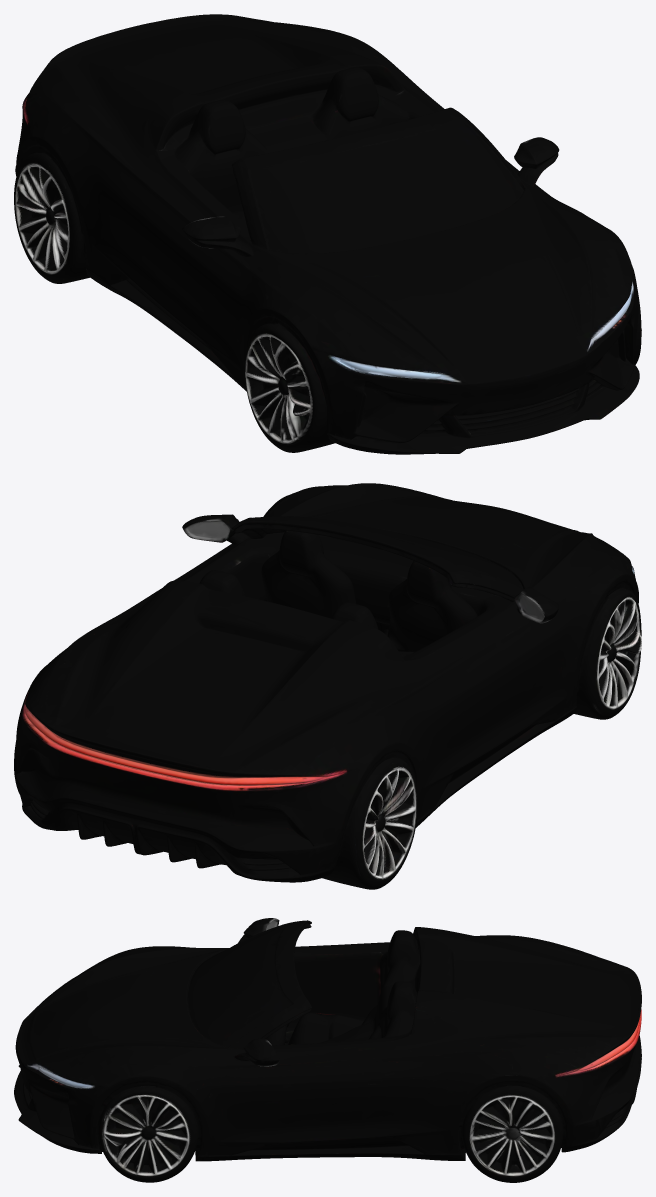
Rendered from car.glb.
3 views of the same model, one above another, from view 1: azimuth 30°, elevation 25°; view 2: azimuth 150°, elevation 25°; view 3: azimuth 270°, elevation 25° (orthographic). The views are drawn at different scales.
Parts seen in each view (by area): view 1: material; view 2: material; view 3: material.
Boxes of the visible parts, bbox=[...] form: material: bbox=[14, 14, 641, 454]; material: bbox=[14, 483, 641, 889]; material: bbox=[14, 918, 641, 1182].
Size of the model in its own units: 0.6233 by 0.3358 by 1.17.
Materials: 1 (1 with a texture image).
